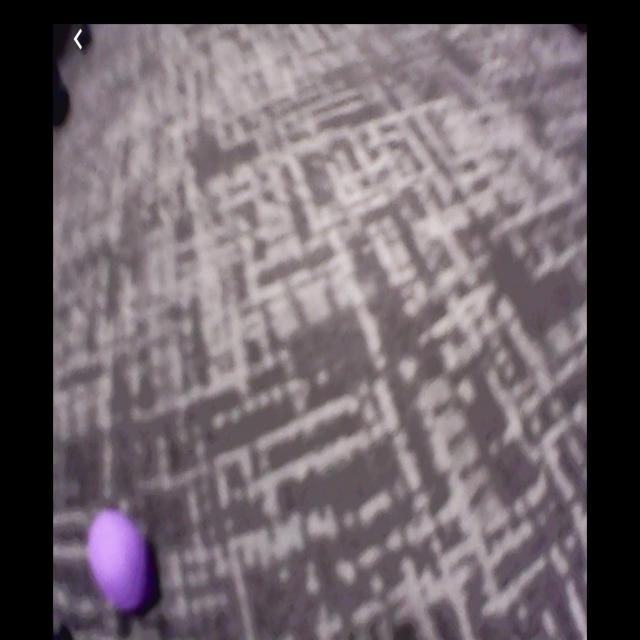ball: (90, 510, 148, 609)
